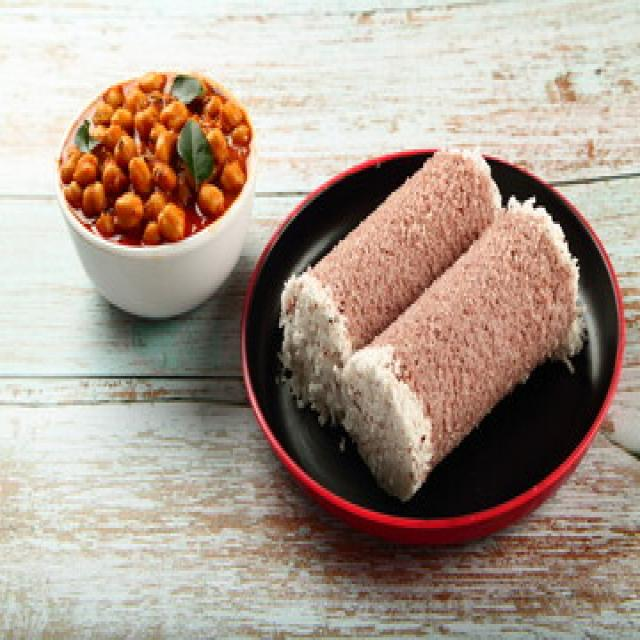CURRY: (58, 71, 254, 244)
PUTTU: (280, 145, 587, 502)
